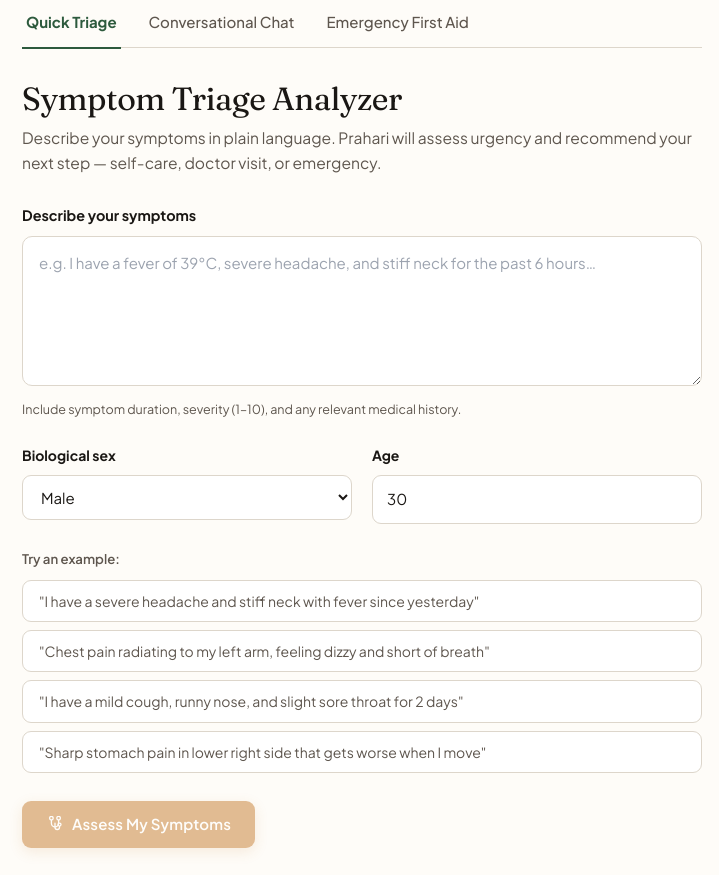
Scenario: TriagePage Component Integration › handles safe self-care recommendations
Replace the text in the text box labelled "Describe your symptoms" with "Mild runny nose and cough": [362, 311] box 22,236 -> 702,386
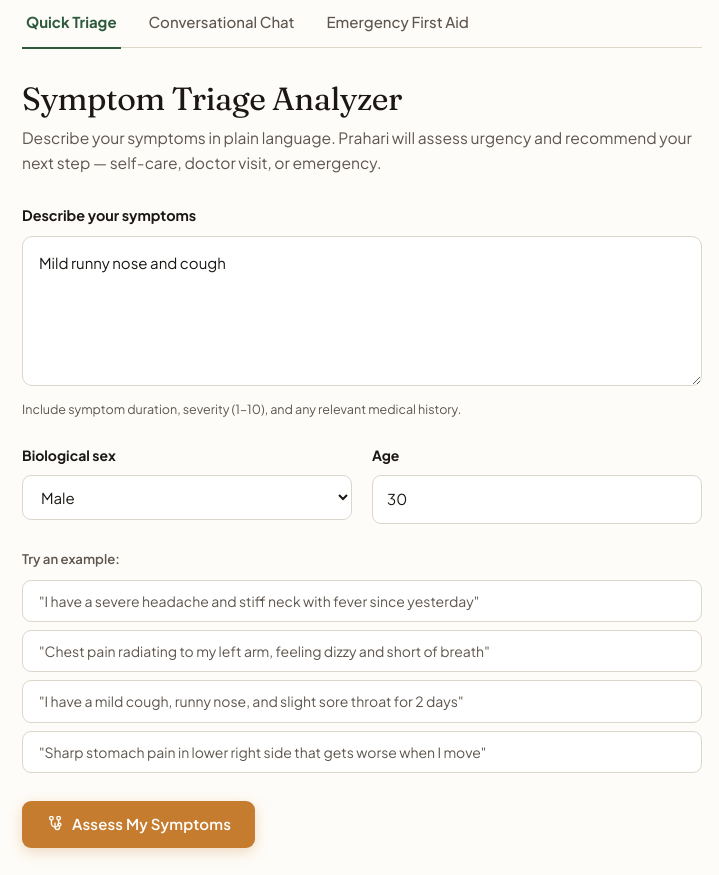
Click the button "Assess My Symptoms": [138, 824] box 22,801 -> 255,848
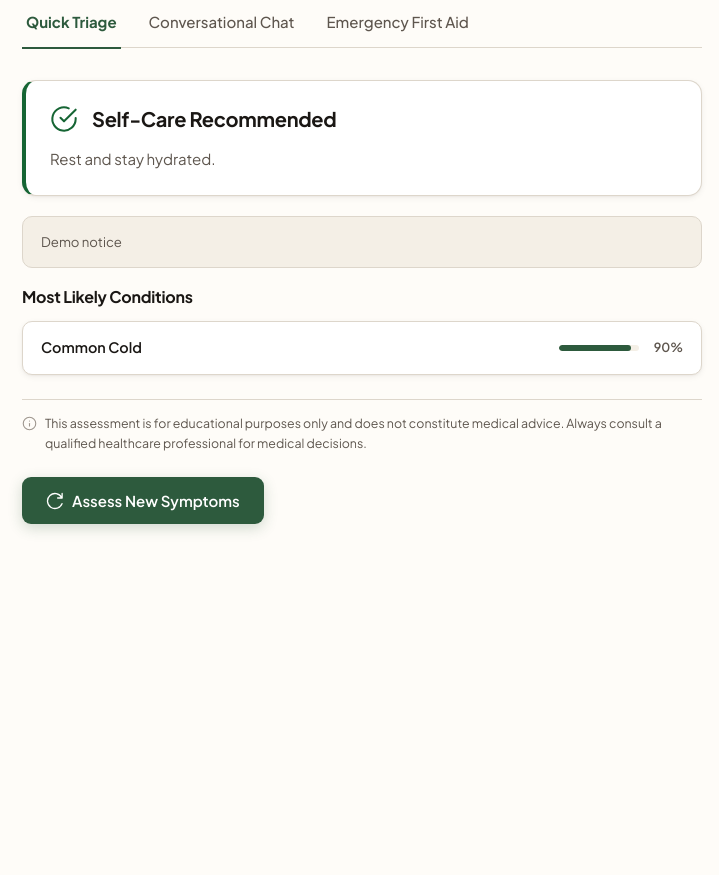
Expected: the heading "Self-Care Recommended" is shown, 92,108 -> 336,131
Expected: the text "Rest and stay hydrated." is shown, 50,149 -> 216,168
Expected: the text "Demo notice" is shown, 22,216 -> 702,268
